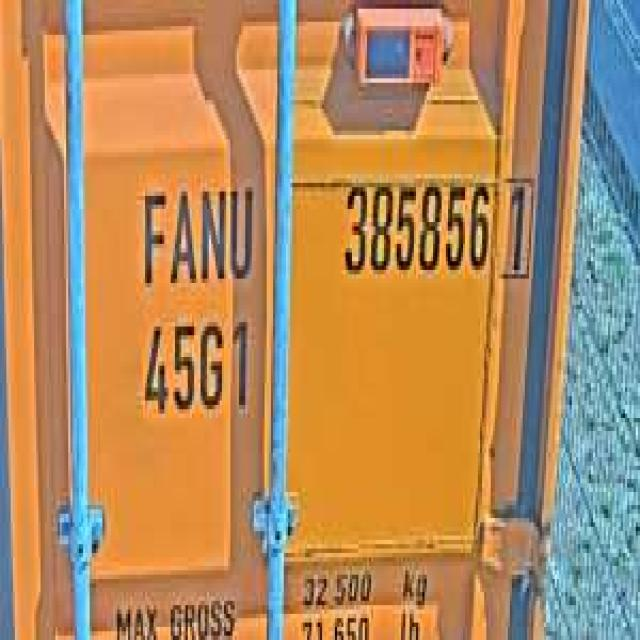dv: (497, 165, 536, 292)
owner: (132, 170, 256, 296)
serial: (339, 170, 493, 283)
size: (136, 304, 254, 426)
